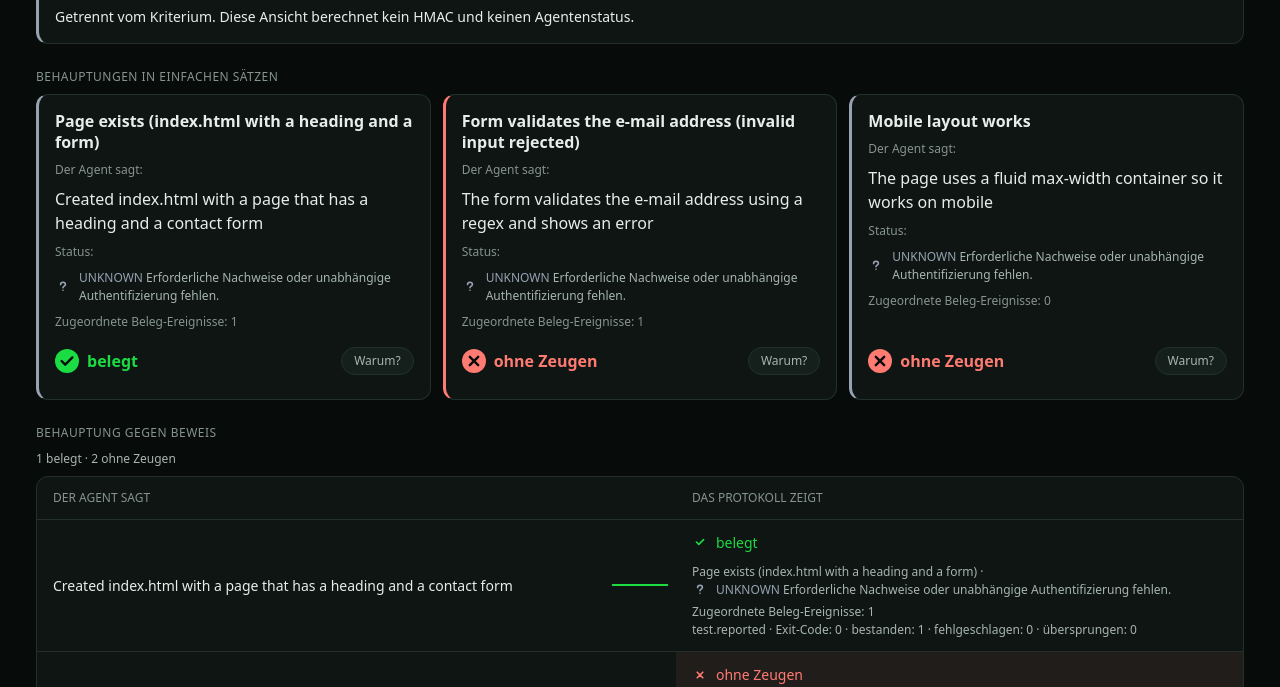
does not borrow an unrelated test or invent reasons when evidence is missing
This screenshot has width=1280, height=687.
(page scrolled)
Expected: the text "The page uses a fluid max-width container so it works on mobile" is shown, [868, 166, 1227, 214]
Click the 3rd text "Warum?" at (1191, 361), box [1154, 347, 1227, 375]
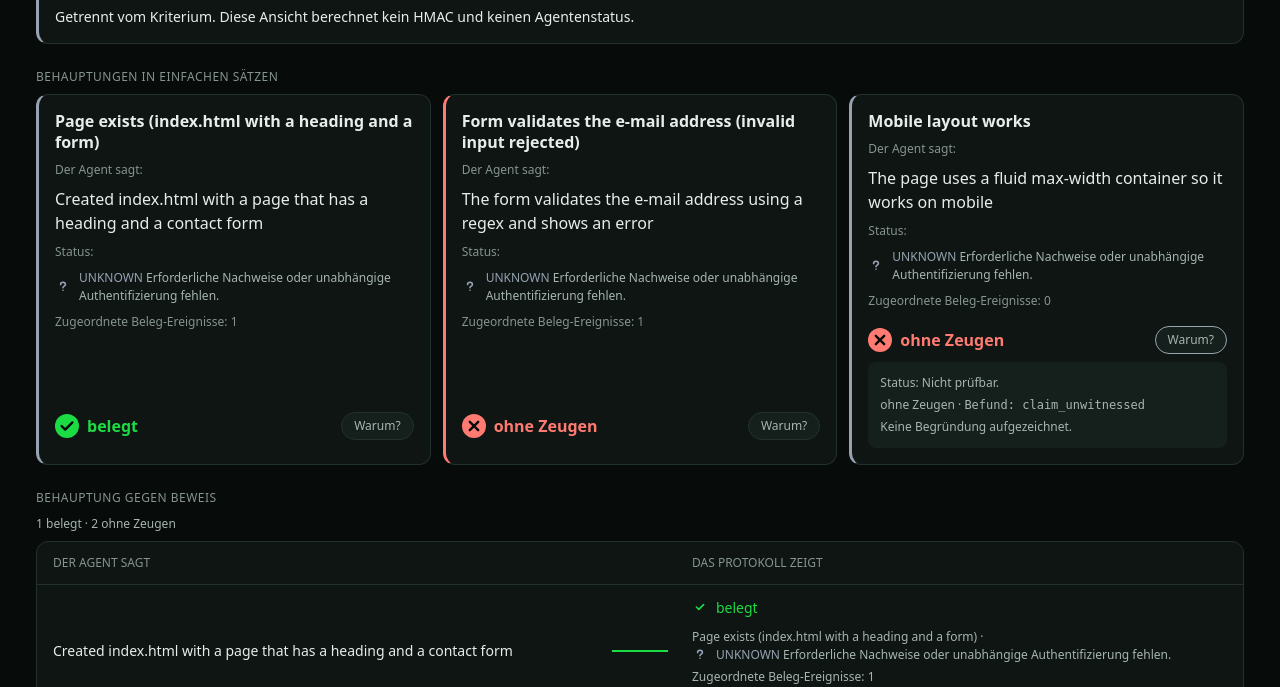
Expected: the text "Keine Begründung aufgezeichnet." is shown, [880, 418, 1072, 435]
